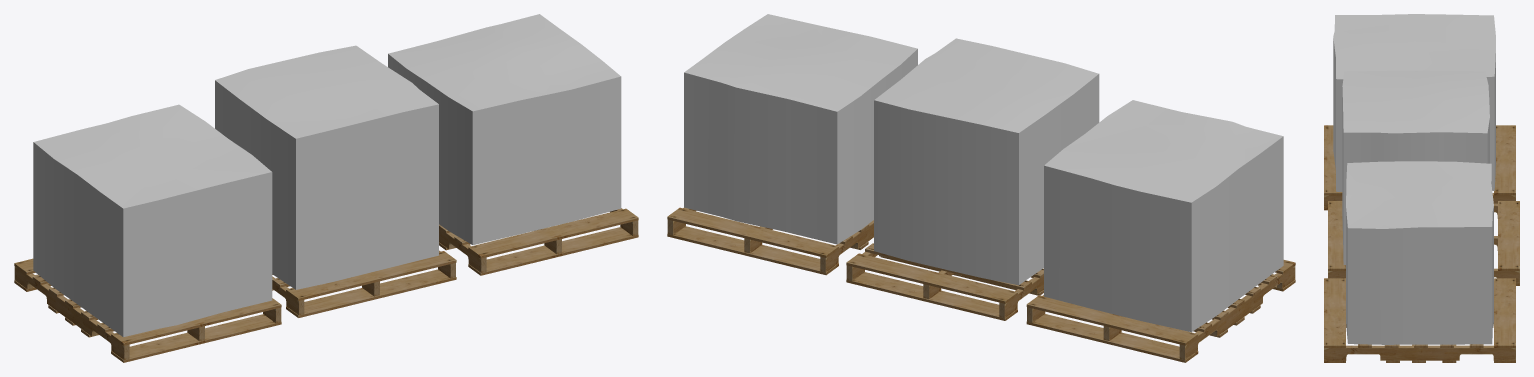
File: Warehouse_Pallet_Triple_2.FBX
The picture shows the model from 3 angles, left to right: view 1: azimuth 30°, elevation 25°; view 2: azimuth 150°, elevation 25°; view 3: azimuth 270°, elevation 25°; orthographic projection. The views are drawn at different scales.
Parts seen in each view (by area): view 1: Warehouse_Pallet_Triple_2; view 2: Warehouse_Pallet_Triple_2; view 3: Warehouse_Pallet_Triple_2.
Part boxes in pixels (x1,y1,x2,y2): Warehouse_Pallet_Triple_2: (14, 14, 638, 362); Warehouse_Pallet_Triple_2: (667, 14, 1295, 362); Warehouse_Pallet_Triple_2: (1324, 14, 1519, 362).
Size of the model in its own units: 130 by 41.77 by 48.95.
